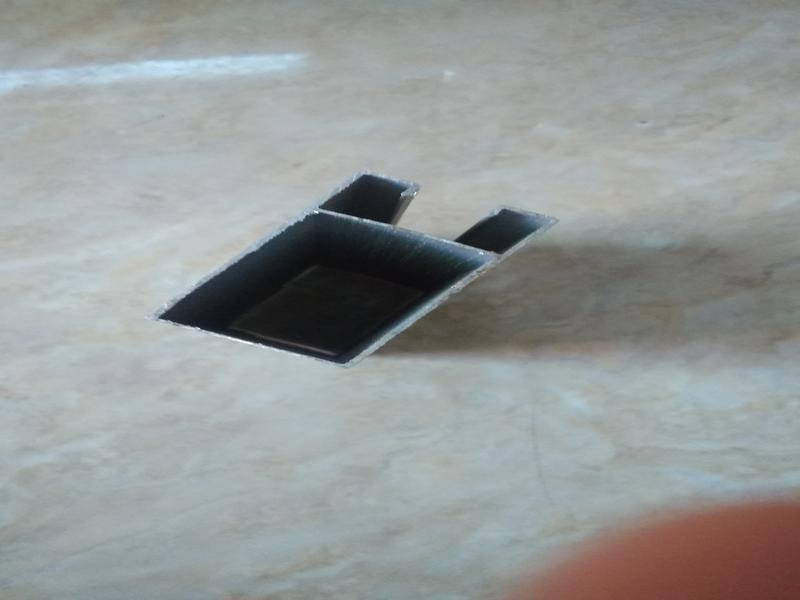Aluminium_1: (140, 127, 569, 391)
